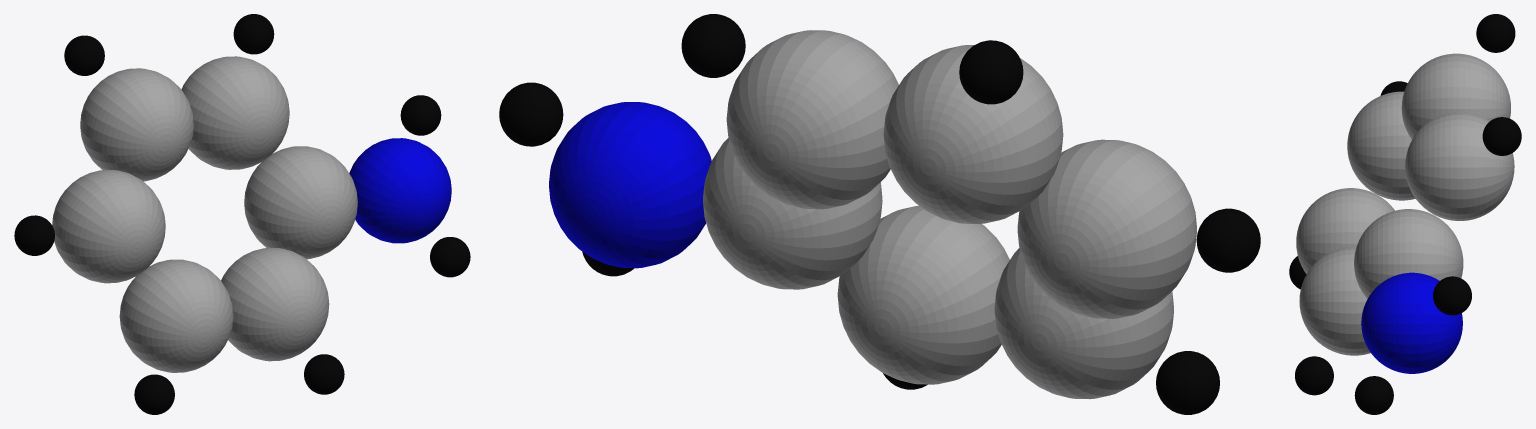
The model's file is Aniline.glb.
3 views of the same model, side by side, from view 1: azimuth 30°, elevation 25°; view 2: azimuth 150°, elevation 25°; view 3: azimuth 270°, elevation 25° (orthographic). The views are drawn at different scales.
Visible parts, largest first — view 1: world; view 2: world; view 3: world.
Part boxes in pixels (bbox=[...]): world: bbox=[14, 14, 470, 414]; world: bbox=[499, 14, 1260, 414]; world: bbox=[1289, 14, 1521, 414].
Bounding box in the file's own units: 6.38 × 4.37 × 2.97.
